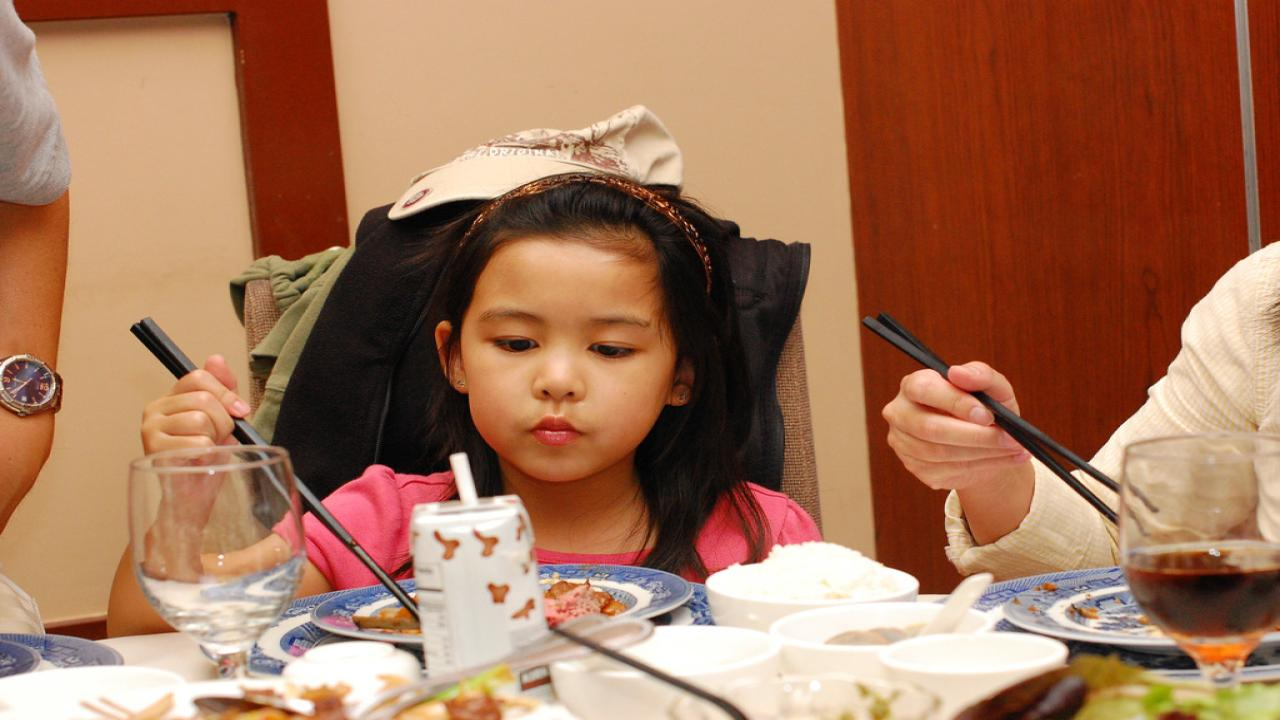chopstick: (130, 318, 419, 611), (868, 313, 1120, 521)
